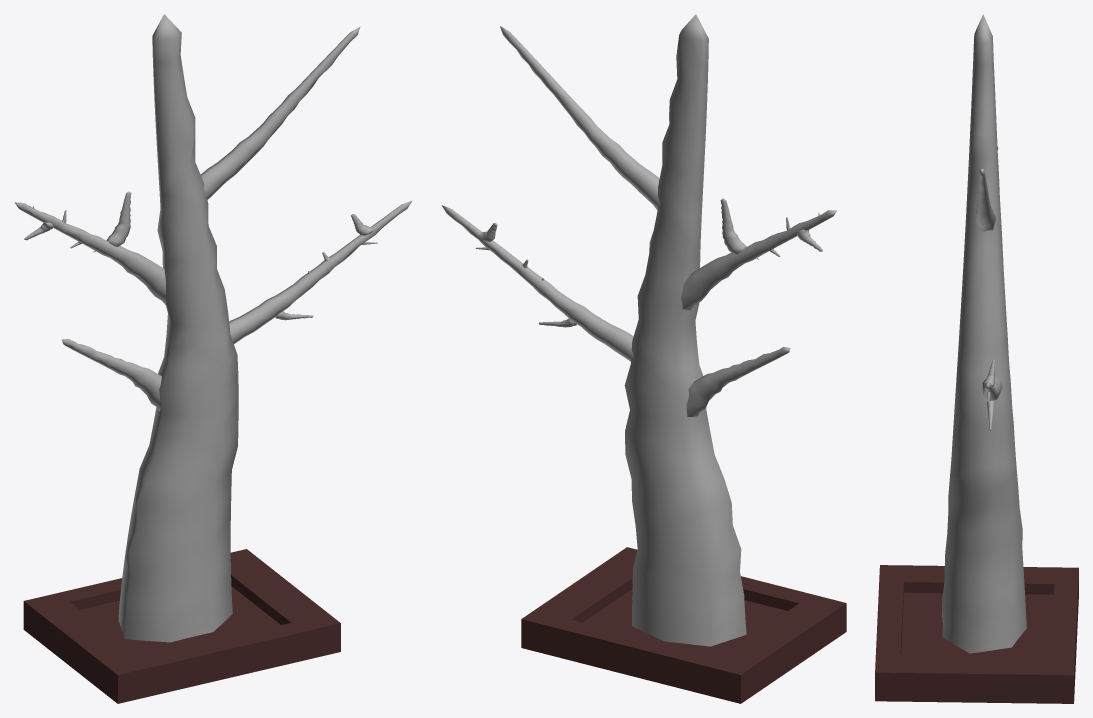
Rendered from treefbx.fbx.
3 views of the same model, side by side, from view 1: azimuth 30°, elevation 25°; view 2: azimuth 150°, elevation 25°; view 3: azimuth 270°, elevation 25° (orthographic).
Visible parts, largest first — view 1: pasted__extrudedSurface1, base1, pasted__extrudedSurface2, pasted__extrudedSurface3, pasted__extrudedSurface17, pasted__extrudedSurface4, pasted__extrudedSurface12; view 2: pasted__extrudedSurface1, base1, pasted__extrudedSurface2, pasted__extrudedSurface3, pasted__extrudedSurface17, pasted__extrudedSurface4, pasted__extrudedSurface12; view 3: pasted__extrudedSurface1, base1, pasted__extrudedSurface2, pasted__extrudedSurface3.
Boxes of the visible parts, box(x1,y1,x2,y2) form: pasted__extrudedSurface1: box(118, 14, 238, 642); base1: box(23, 549, 340, 703); pasted__extrudedSurface2: box(200, 27, 360, 199); pasted__extrudedSurface3: box(229, 201, 411, 343); pasted__extrudedSurface17: box(14, 202, 166, 305); pasted__extrudedSurface4: box(62, 339, 161, 411); pasted__extrudedSurface12: box(106, 191, 131, 246); pasted__extrudedSurface1: box(624, 14, 746, 646); base1: box(521, 547, 846, 703); pasted__extrudedSurface2: box(500, 26, 660, 210); pasted__extrudedSurface3: box(441, 205, 634, 361); pasted__extrudedSurface17: box(681, 210, 836, 310); pasted__extrudedSurface4: box(686, 347, 790, 416); pasted__extrudedSurface12: box(720, 198, 746, 254); pasted__extrudedSurface1: box(942, 14, 1026, 653); base1: box(875, 565, 1078, 703); pasted__extrudedSurface2: box(975, 168, 996, 232); pasted__extrudedSurface3: box(982, 377, 1002, 401).
Size of the model in its own units: 4.21 by 6.38 by 1.88.
